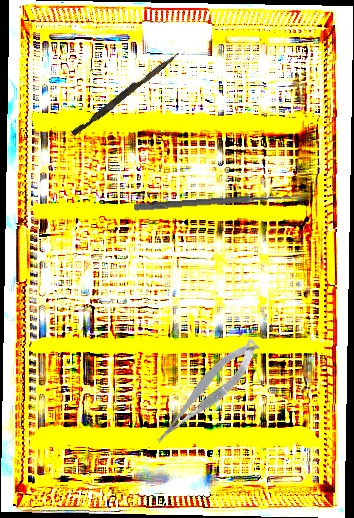Micro Scissor: (142, 334, 270, 449)
Pusher: (70, 48, 181, 139)
Surgical Spoon: (133, 192, 303, 212)
